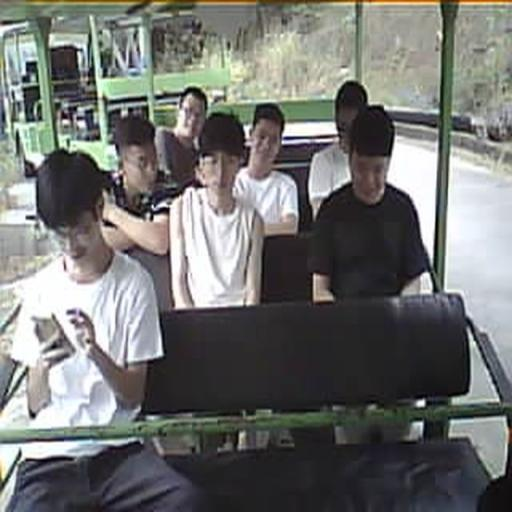persona: (4, 148, 207, 510), (307, 104, 437, 302), (168, 112, 265, 309), (100, 114, 173, 256), (232, 102, 300, 232), (307, 80, 369, 219), (154, 85, 208, 189)
